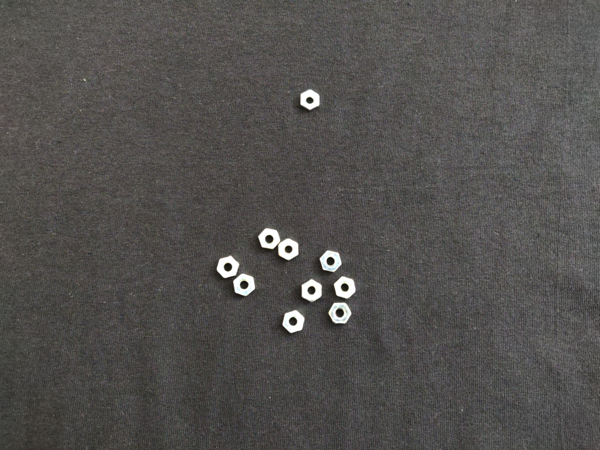nut: (333, 275, 358, 300), (215, 256, 241, 279), (319, 250, 343, 273), (233, 274, 257, 297), (300, 279, 324, 302), (282, 310, 306, 333), (299, 88, 322, 112), (257, 228, 282, 250), (328, 303, 353, 325), (277, 238, 300, 261)
